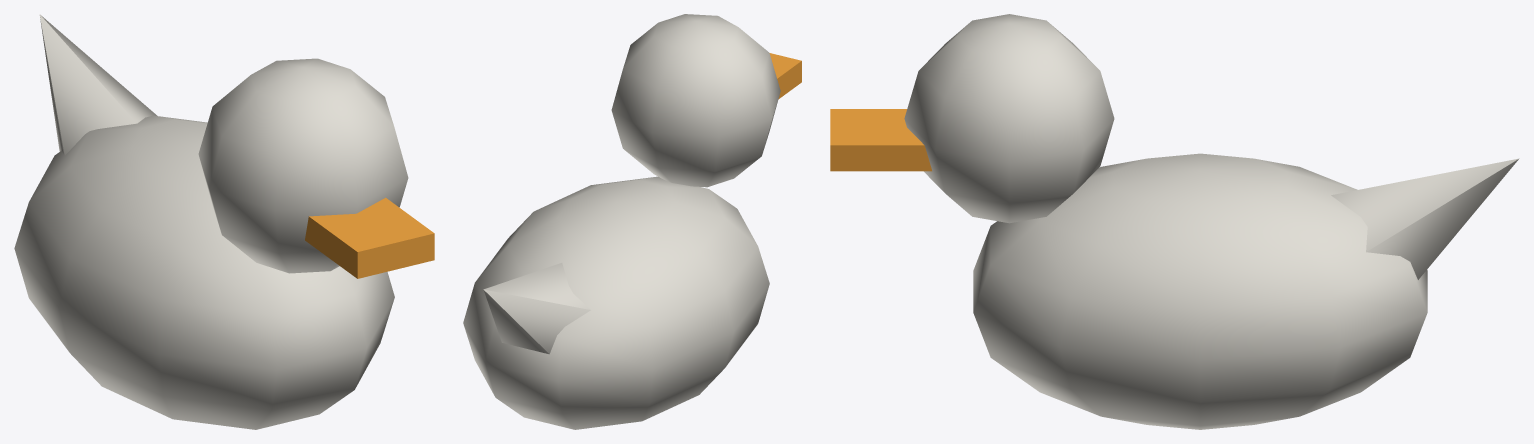
The model's file is vit.glb.
The picture shows the model from 3 angles, left to right: view 1: azimuth 30°, elevation 25°; view 2: azimuth 150°, elevation 25°; view 3: azimuth 270°, elevation 25°; orthographic projection. The views are drawn at different scales.
Visible parts, largest first — view 1: vit; view 2: vit; view 3: vit.
Part boxes in pixels (left/top/right/bottom): vit: left=14, top=14, right=434, bottom=429; vit: left=463, top=14, right=801, bottom=429; vit: left=830, top=14, right=1519, bottom=429.
Bounding box in the file's own units: 0.068 × 0.09 × 0.1443.
